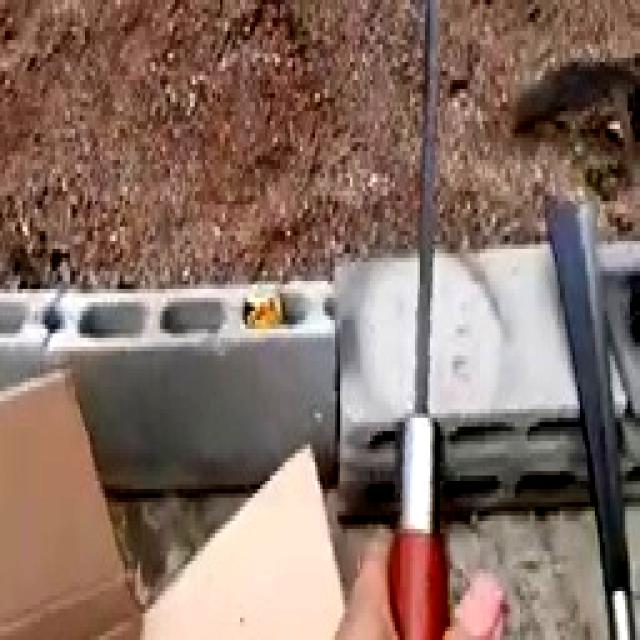eto: (539, 191, 639, 640)
